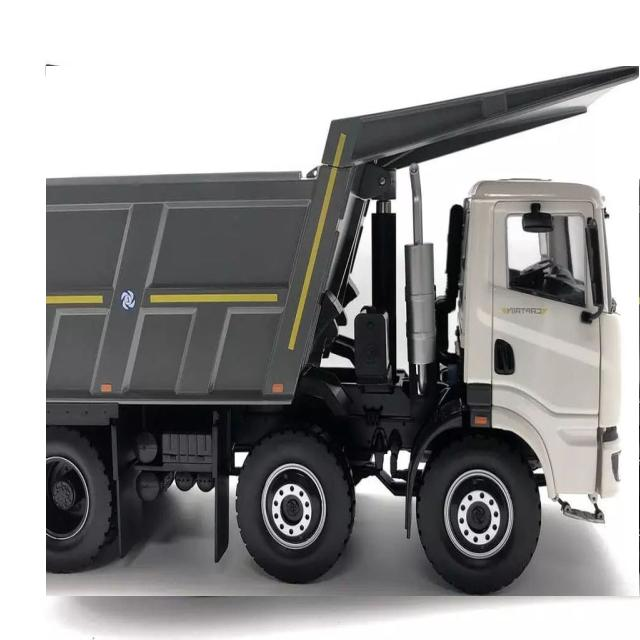truck: (47, 66, 639, 596)
